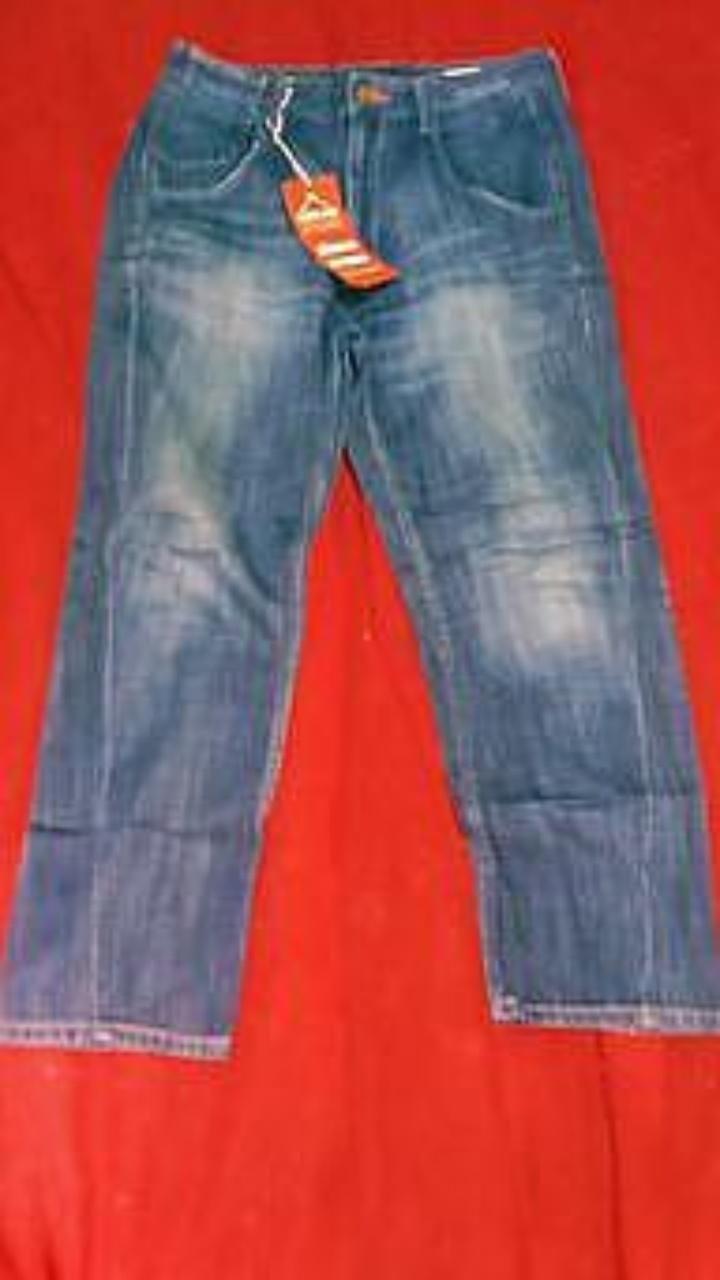Jeans: (0, 39, 719, 1057)
